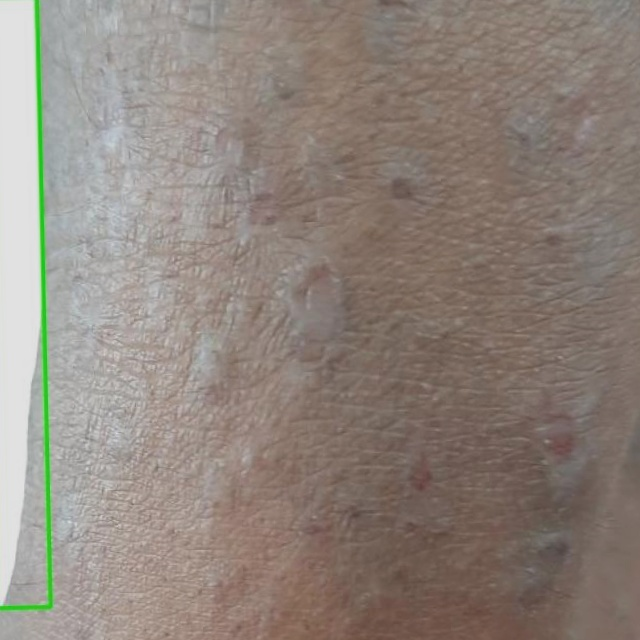Atopic Dermatitis: (0, 0, 50, 608)
